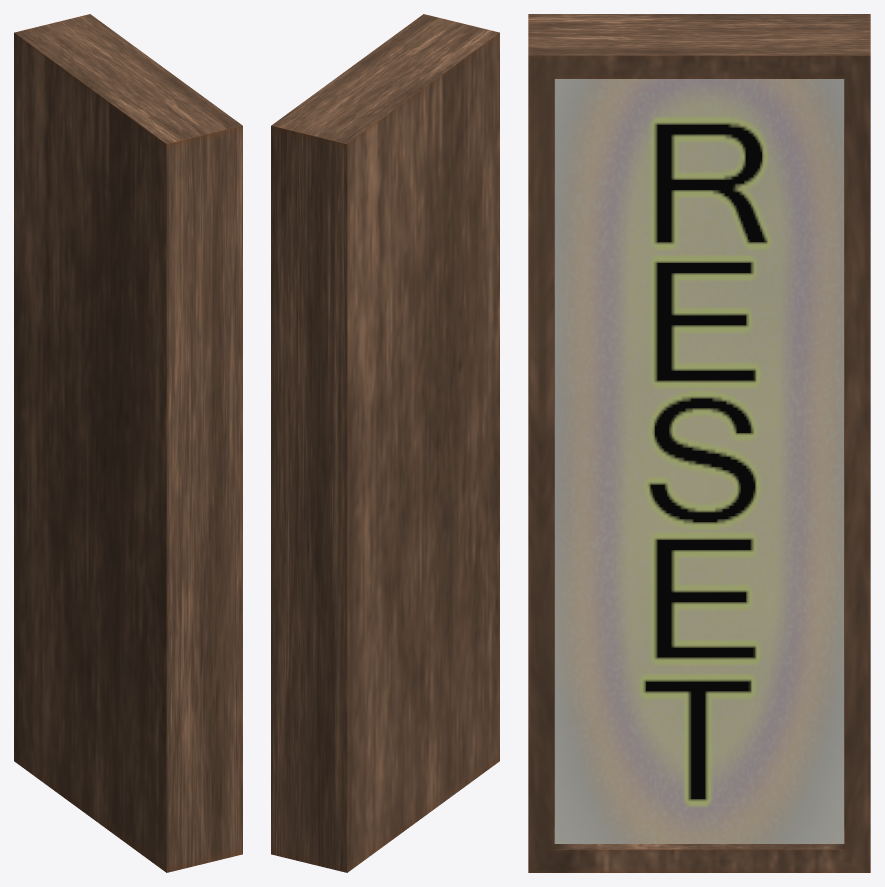
Rendered from resetButton.fbx.
The picture shows the model from 3 angles, left to right: view 1: azimuth 30°, elevation 25°; view 2: azimuth 150°, elevation 25°; view 3: azimuth 270°, elevation 25°; orthographic projection. The views are drawn at different scales.
Parts seen in each view (by area): view 1: pCube1; view 2: pCube1; view 3: off1, pCube1.
Boxes of the visible parts, box(x1,y1,x2,y2) form: pCube1: box(14, 14, 242, 872); pCube1: box(271, 14, 499, 872); off1: box(554, 79, 844, 843); pCube1: box(528, 14, 870, 872).
Size of the model in its own units: 0.3409 by 3.11 by 1.18.
Materials: 3 (3 with a texture image).
